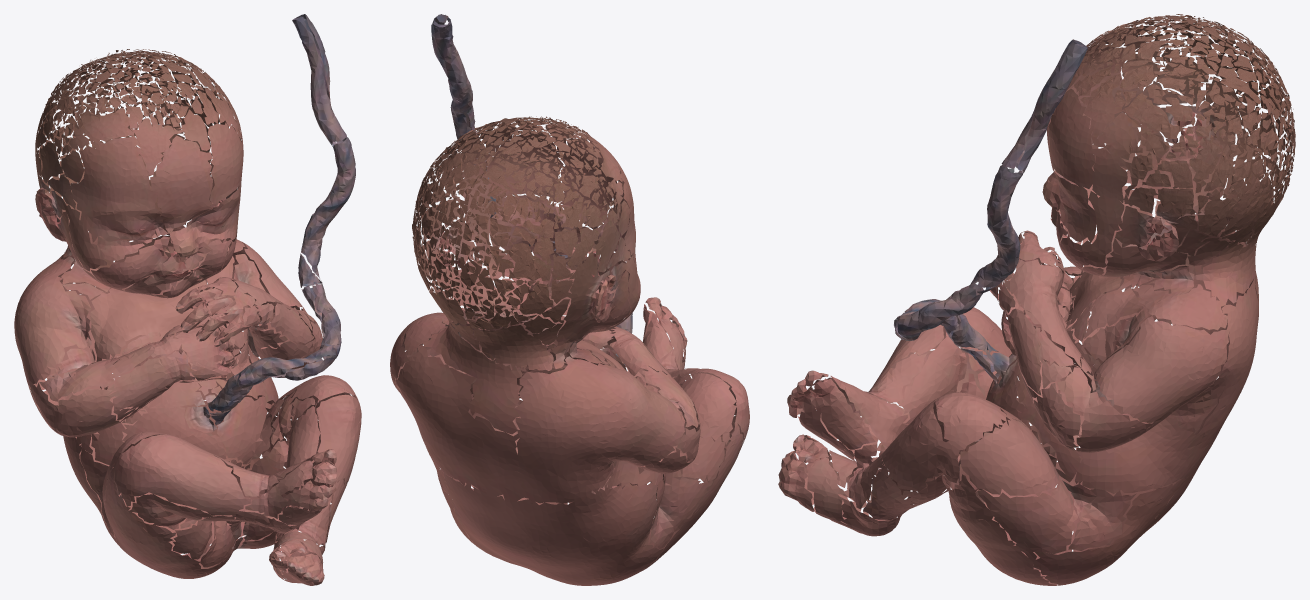
File: semaine-35.glb
3 renders of one model, left to right at view 1: azimuth 30°, elevation 25°; view 2: azimuth 150°, elevation 25°; view 3: azimuth 270°, elevation 25°, orthographic. The views are drawn at different scales.
Bounding box in the file's own units: 1.1 × 2 × 1.6.
Materials: 1 (1 with a texture image).
